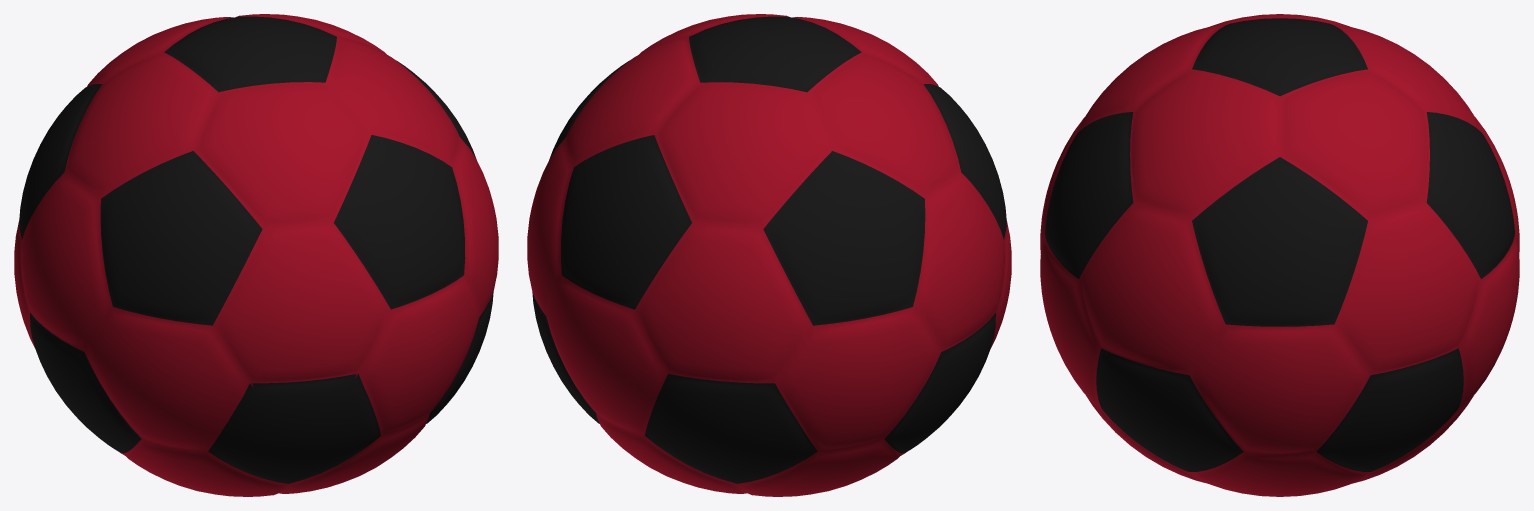
The model's file is soccerBall.gltf.
3 renders of one model, left to right at view 1: azimuth 30°, elevation 25°; view 2: azimuth 150°, elevation 25°; view 3: azimuth 270°, elevation 25°, orthographic.
Visible parts, largest first — view 1: SoccerBall; view 2: SoccerBall; view 3: SoccerBall.
Boxes of the visible parts, <box> form: SoccerBall: <box>14,14,498,496</box>; SoccerBall: <box>527,14,1011,496</box>; SoccerBall: <box>1040,14,1519,496</box>.
Size of the model in its own units: 1.05 by 1.06 by 1.04.
